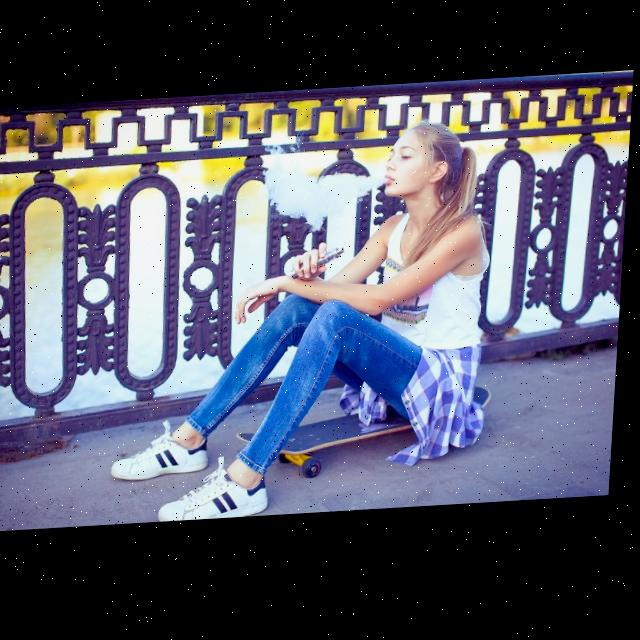vape: (294, 251, 348, 282)
